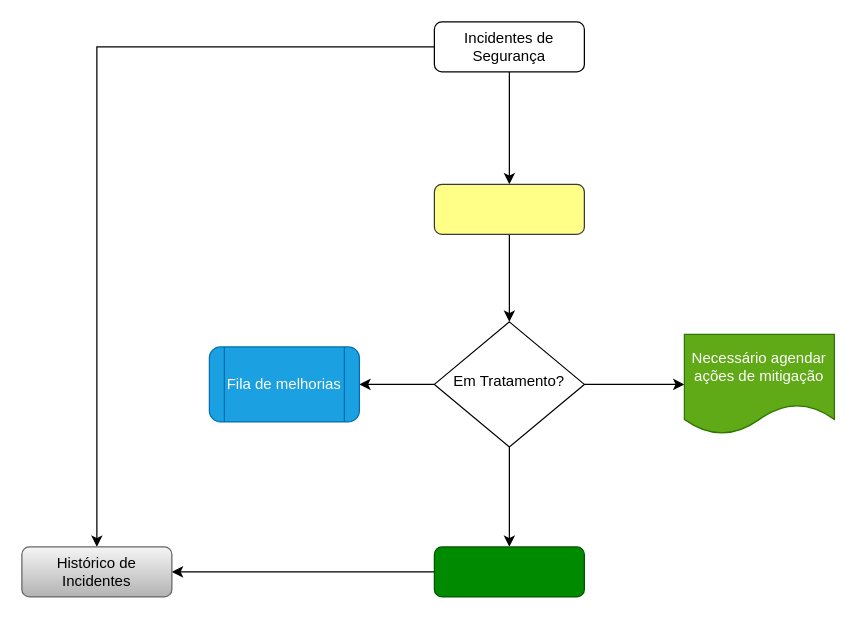
Some shapes in this 856 by 619 pixel diagram are drawn without their labels. Here are the shapes that lost their labels. From the top down, the box of each, then its label:
(433, 183, 584, 234): Suporte N1 / N2
(433, 546, 584, 597): Incidente Tratado
